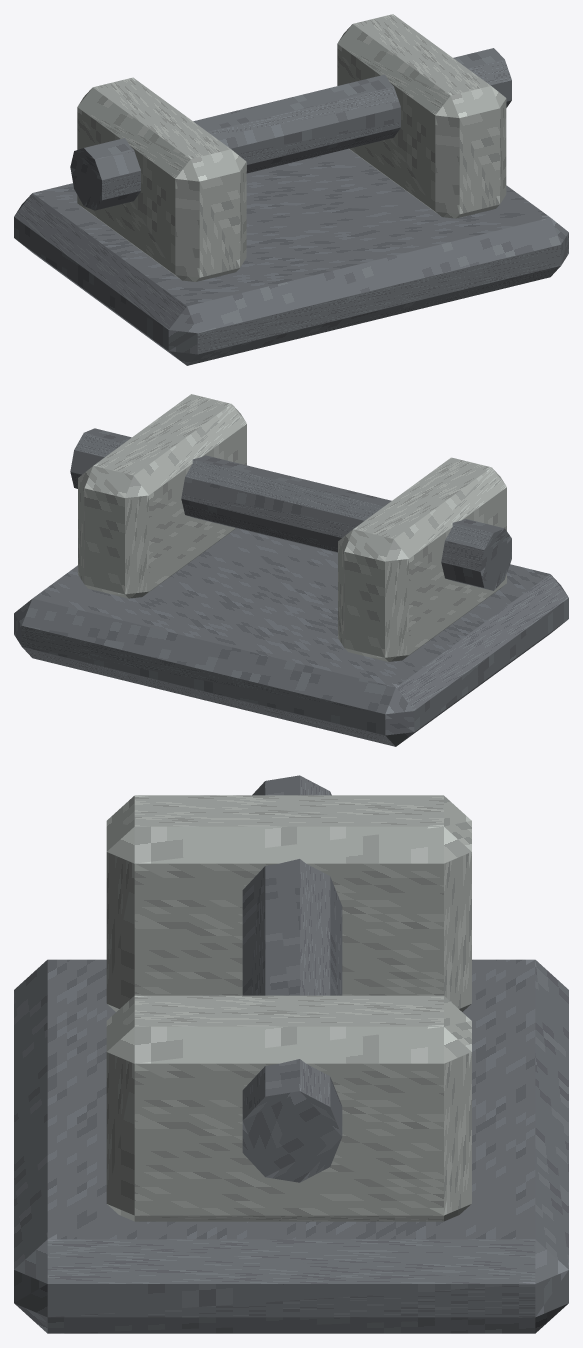
Rendered from wheel_mount_medium.glb.
The picture shows the model from 3 angles, top to bottom: view 1: azimuth 30°, elevation 25°; view 2: azimuth 150°, elevation 25°; view 3: azimuth 270°, elevation 25°; orthographic projection. The views are drawn at different scales.
Parts seen in each view (by area): view 1: block_wheel mounting bracket, block_bearing support (×2), block_mount axle; view 2: block_wheel mounting bracket, block_bearing support (×2), block_mount axle; view 3: block_bearing support (×2), block_wheel mounting bracket, block_mount axle.
Boxes of the visible parts, x1,y1,x2,y2 form: block_wheel mounting bracket: [14, 148, 568, 365]; block_bearing support (×2): [77, 14, 506, 281]; block_mount axle: [70, 48, 511, 210]; block_wheel mounting bracket: [14, 528, 568, 746]; block_bearing support (×2): [78, 394, 506, 661]; block_mount axle: [70, 428, 511, 590]; block_bearing support (×2): [106, 795, 471, 1221]; block_wheel mounting bracket: [14, 959, 568, 1333]; block_mount axle: [242, 775, 342, 1182].
Bounding box in the file's own units: 0.204 × 0.0851 × 0.1516.
Materials: 1 (1 with a texture image).
